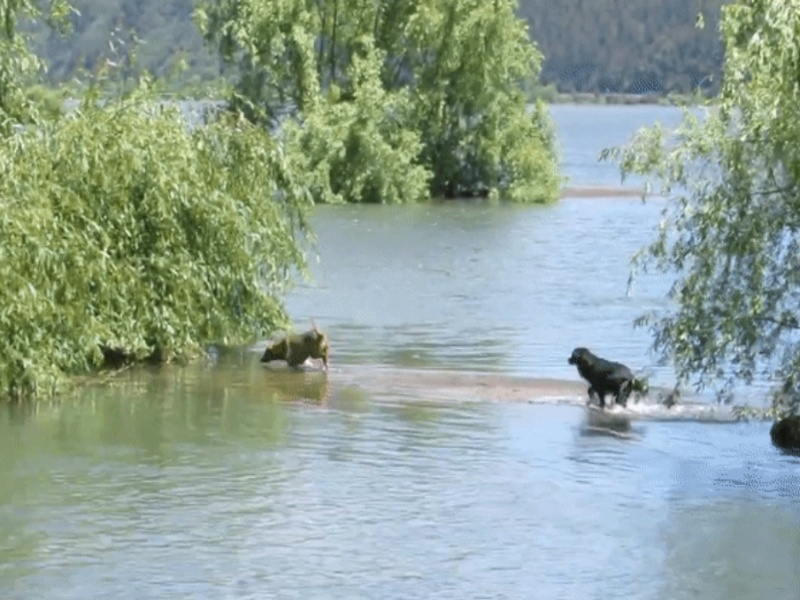dog: (568, 345, 644, 416), (258, 323, 330, 378)
